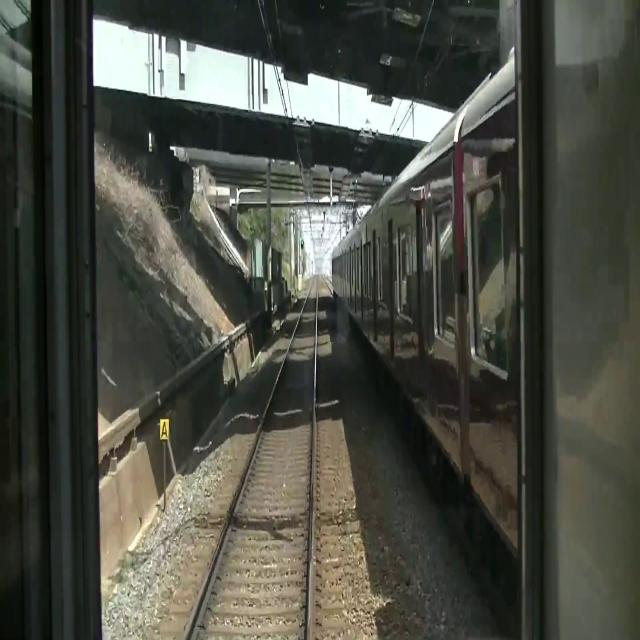rail-track: (192, 276, 316, 639), (324, 277, 332, 290)
